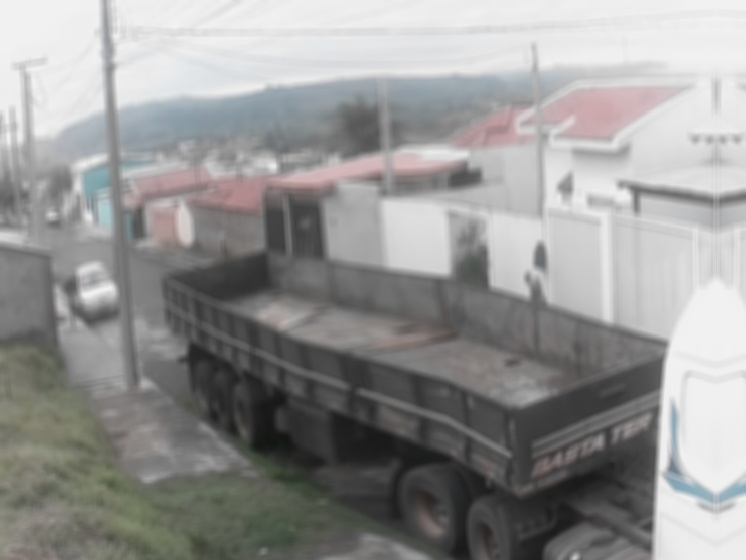person: (524, 269, 546, 311)
